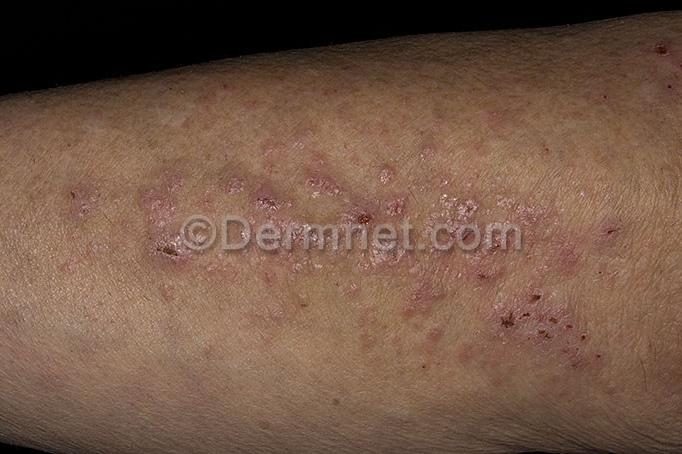Eritema 2: (58, 160, 639, 393)
excoriacion 2: (63, 157, 644, 390)
exudacion 1: (646, 40, 682, 107)
exudacion 2: (54, 156, 635, 389)
